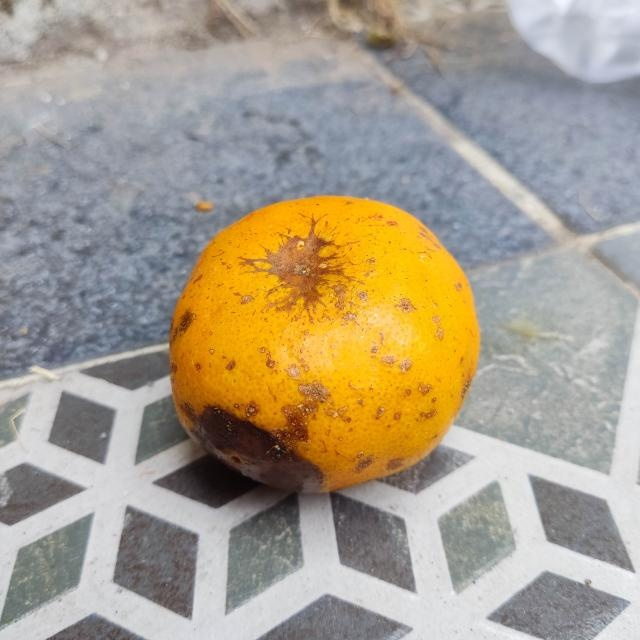agrume: (171, 191, 483, 493)
